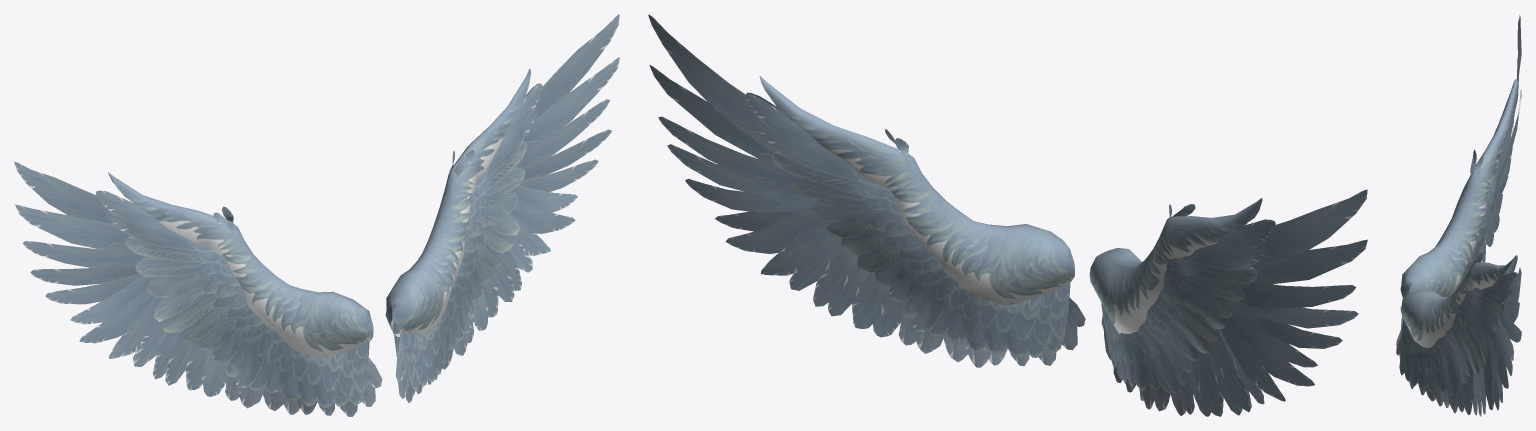
The model's file is Wings_4.fbx.
The picture shows the model from 3 angles, left to right: view 1: azimuth 30°, elevation 25°; view 2: azimuth 150°, elevation 25°; view 3: azimuth 270°, elevation 25°; orthographic projection. The views are drawn at different scales.
Visible parts, largest first — view 1: SKEL_ROOT.002; view 2: SKEL_ROOT.002; view 3: SKEL_ROOT.002.
Boxes of the visible parts, left/top/right/bottom form: SKEL_ROOT.002: left=14, top=14, right=619, bottom=416; SKEL_ROOT.002: left=648, top=14, right=1367, bottom=416; SKEL_ROOT.002: left=1396, top=15, right=1521, bottom=416.
Bounding box in the file's own units: 3.24 × 1.41 × 0.6802.
